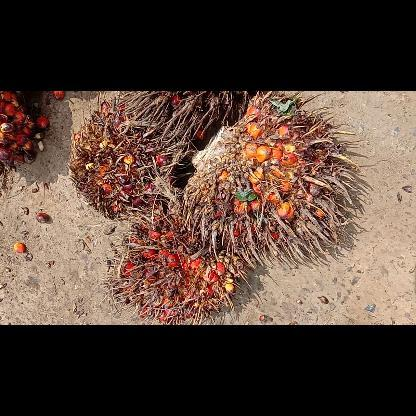Terlalu masak: (180, 91, 370, 277), (105, 196, 254, 324), (66, 95, 192, 225)
